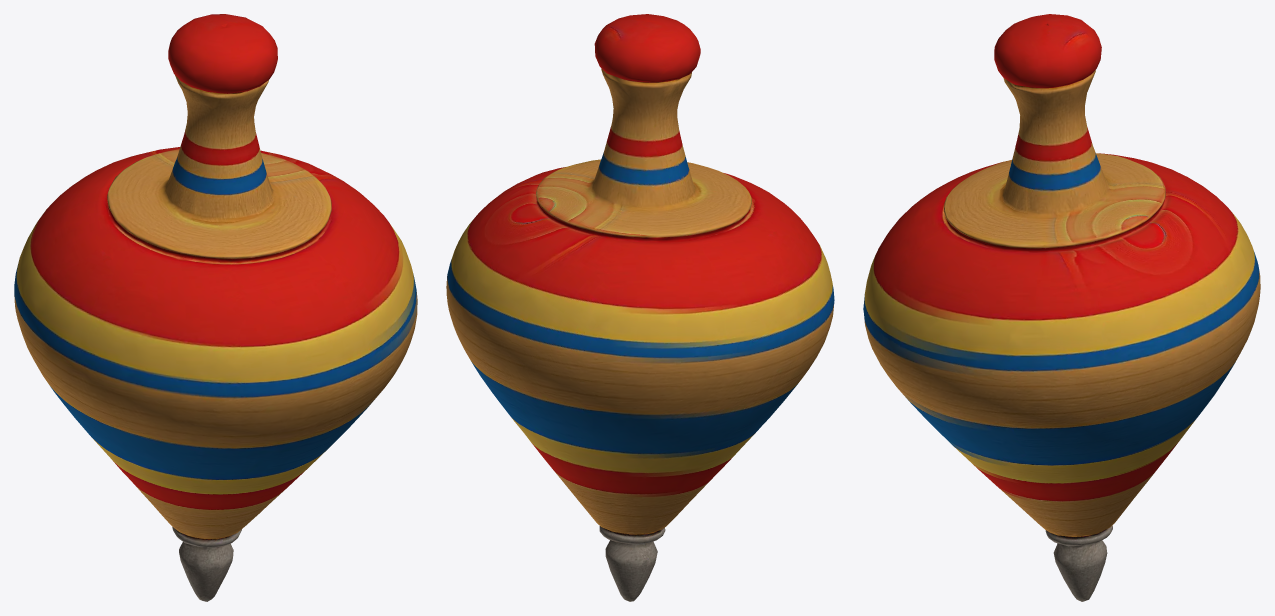
File: top.glb
3 views of the same model, side by side, from view 1: azimuth 30°, elevation 25°; view 2: azimuth 150°, elevation 25°; view 3: azimuth 270°, elevation 25° (orthographic). The views are drawn at different scales.
Parts seen in each view (by area): view 1: node_6ea93d76-b180-4002-8886-c7e4537a0506; view 2: node_6ea93d76-b180-4002-8886-c7e4537a0506; view 3: node_6ea93d76-b180-4002-8886-c7e4537a0506.
Boxes of the visible parts, x1,y1,x2,y2 form: node_6ea93d76-b180-4002-8886-c7e4537a0506: (14,14,417,601); node_6ea93d76-b180-4002-8886-c7e4537a0506: (446,14,834,601); node_6ea93d76-b180-4002-8886-c7e4537a0506: (863,14,1260,601).
Size of the model in its own units: 0.6203 by 1 by 0.6226.
1 material, 1 textured.
